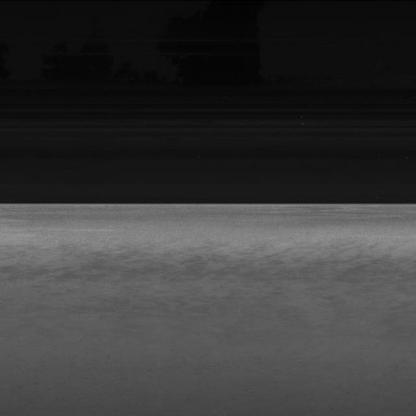silk_spot: (83, 224, 360, 298)
